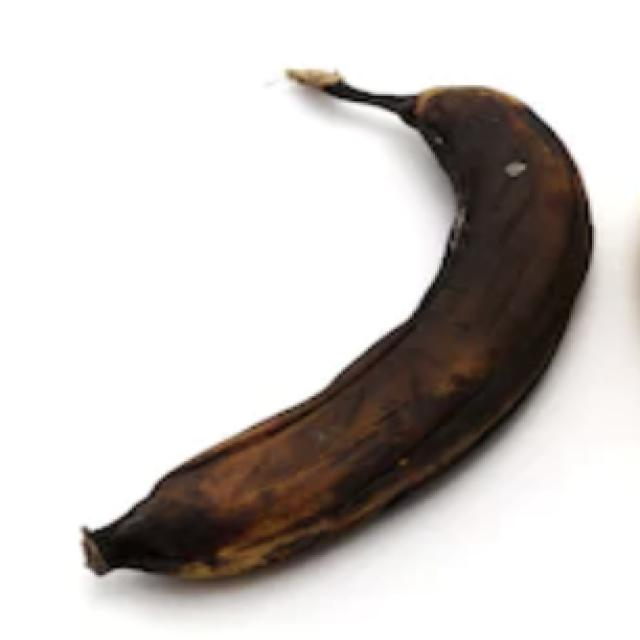rotten-banana: (77, 63, 594, 582)
